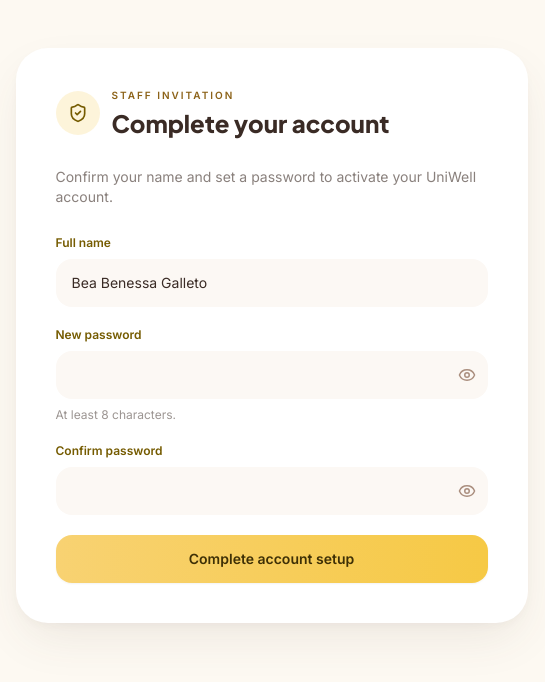
Test case: staff invitation password setup › rejects staff invitation passwords shorter than 8 characters
This screenshot has width=545, height=682.
Type "short7!" into the password field labelled "New password" at (272, 374), box [56,350,488,398]
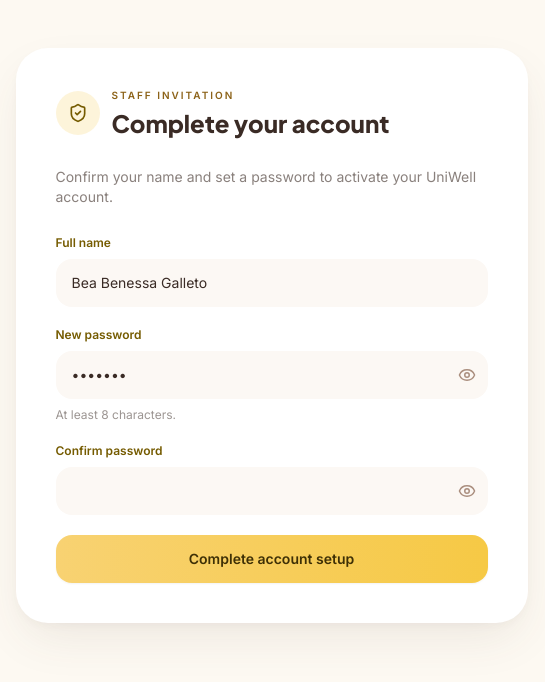
Type "short7!" into the password field labelled "Confirm password" at (272, 490), box [56,466,488,514]
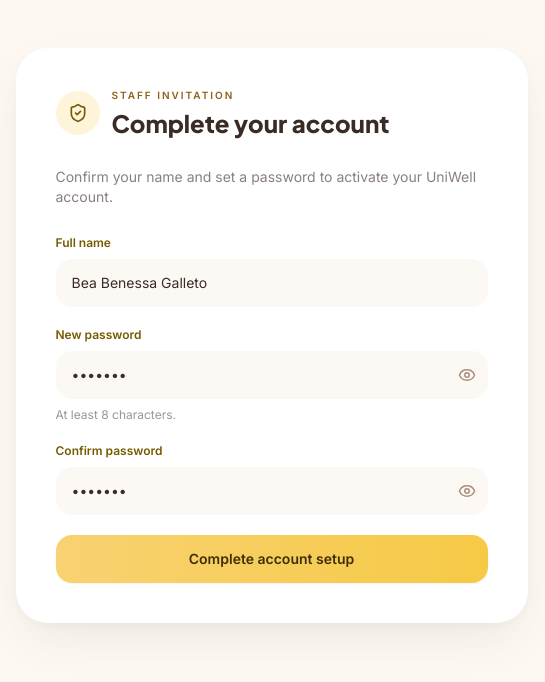
Submit the form, box [56,234,488,582]
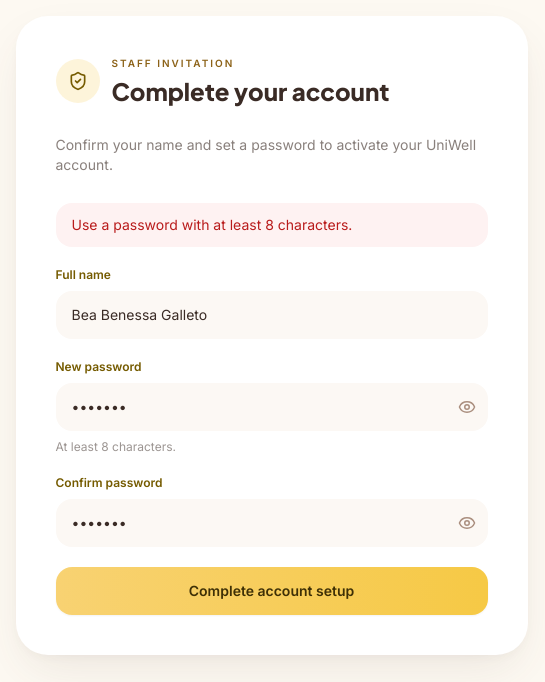
Now the message reads "Use a password with at least 8 characters.", box [72,216,352,232]
